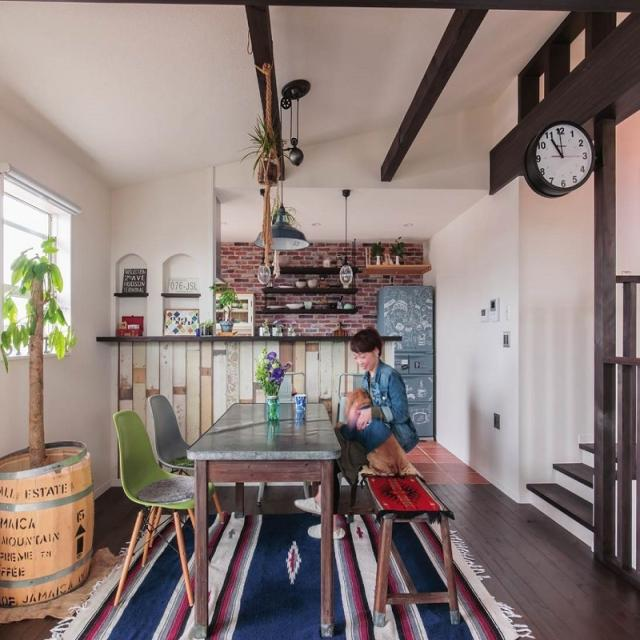vintage chair: (360, 456, 460, 628), (108, 410, 194, 600)
vintage desk: (188, 401, 338, 640)
